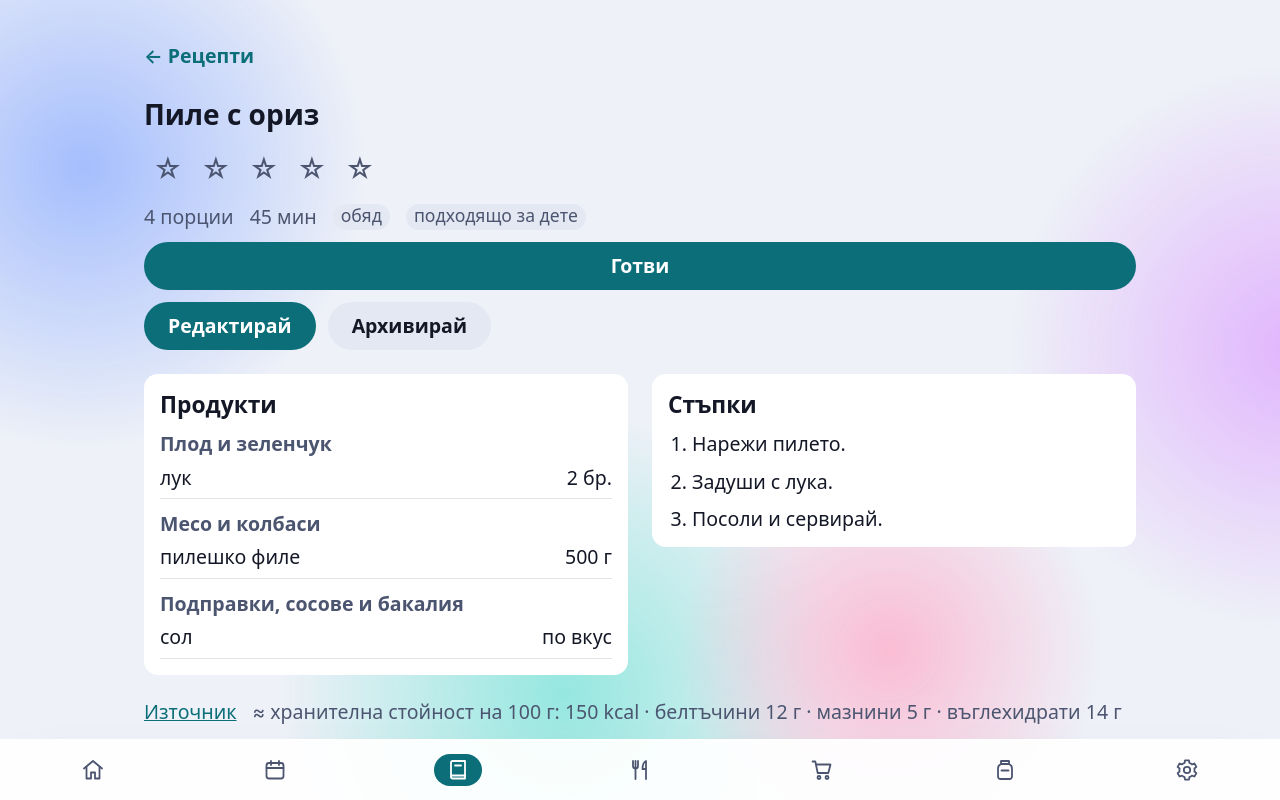
Test: Готвене › „Готви“ в изгледа на рецептата отваря Готвене (phone)
The width and height of the screenshot is (1280, 800).
Step 1. Click the link "Готви" → [640, 266], box x1=144 y1=242 x2=1136 y2=290
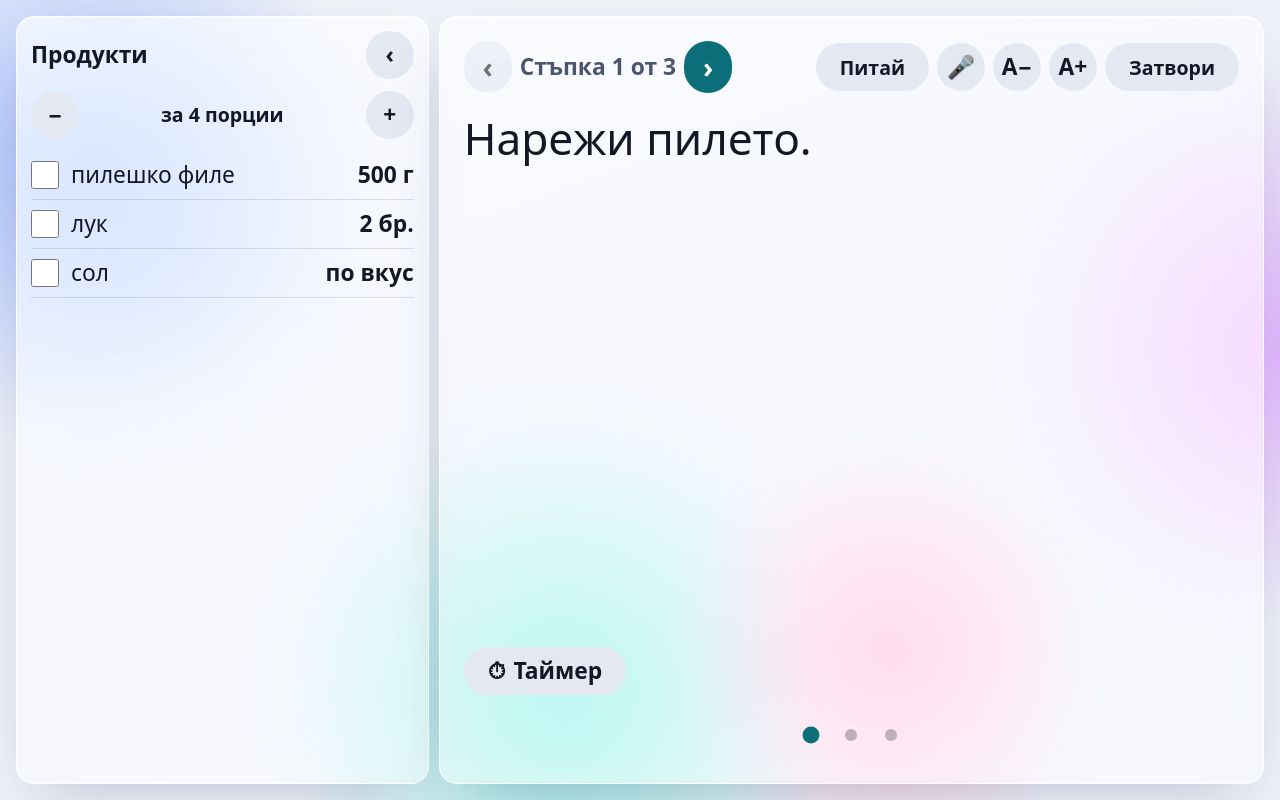
Expected: the text "Нарежи пилето." is shown, x1=464 y1=109 x2=812 y2=168
Expected: the text "Стъпка 1 от 3" is shown, x1=520 y1=52 x2=676 y2=82
